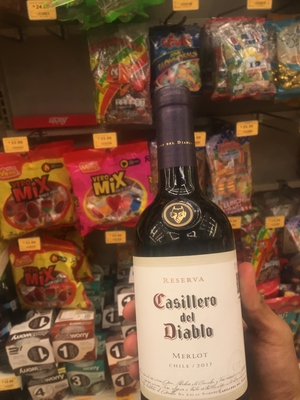casillero del diablo merlot: (128, 93, 247, 400)
